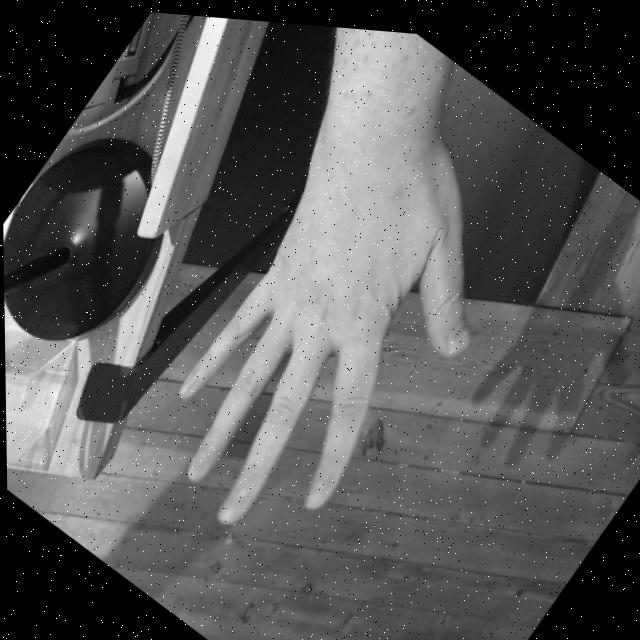hand: (118, 81, 550, 598)
